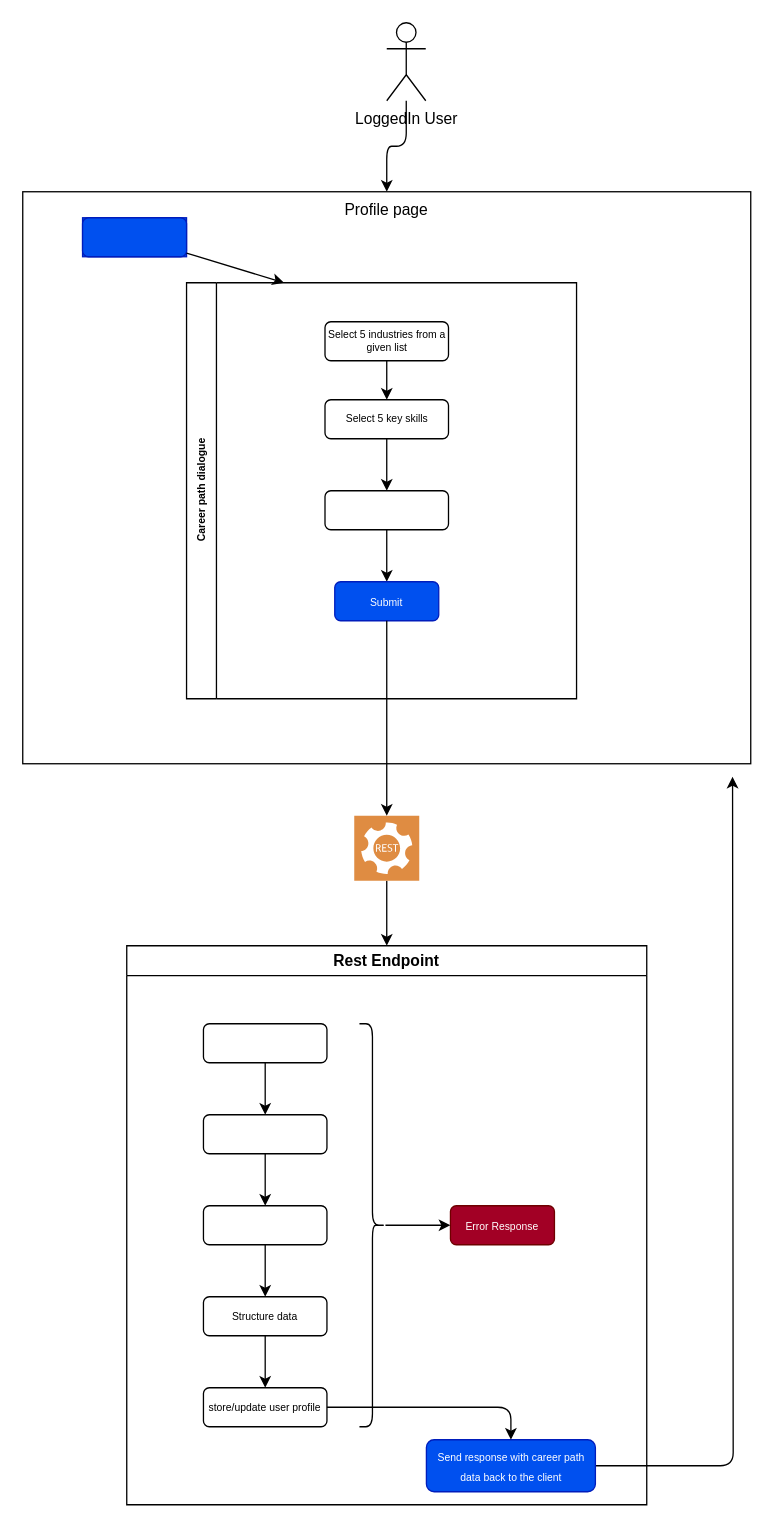
Some shapes in this 774 by 1528 pixel diagram are drawn without their labels. The shapes that lost their labels are listed below. From the top down, each one's centre as x and y in pixels, then its label:
At point (134, 236): "Questionaire Button".
At point (386, 509): "Career path questionaire".
At point (386, 847): "API Call".
At point (264, 1042): "user validation".
At point (264, 1133): "data validation".
At point (264, 1224): "Make career path decision".
